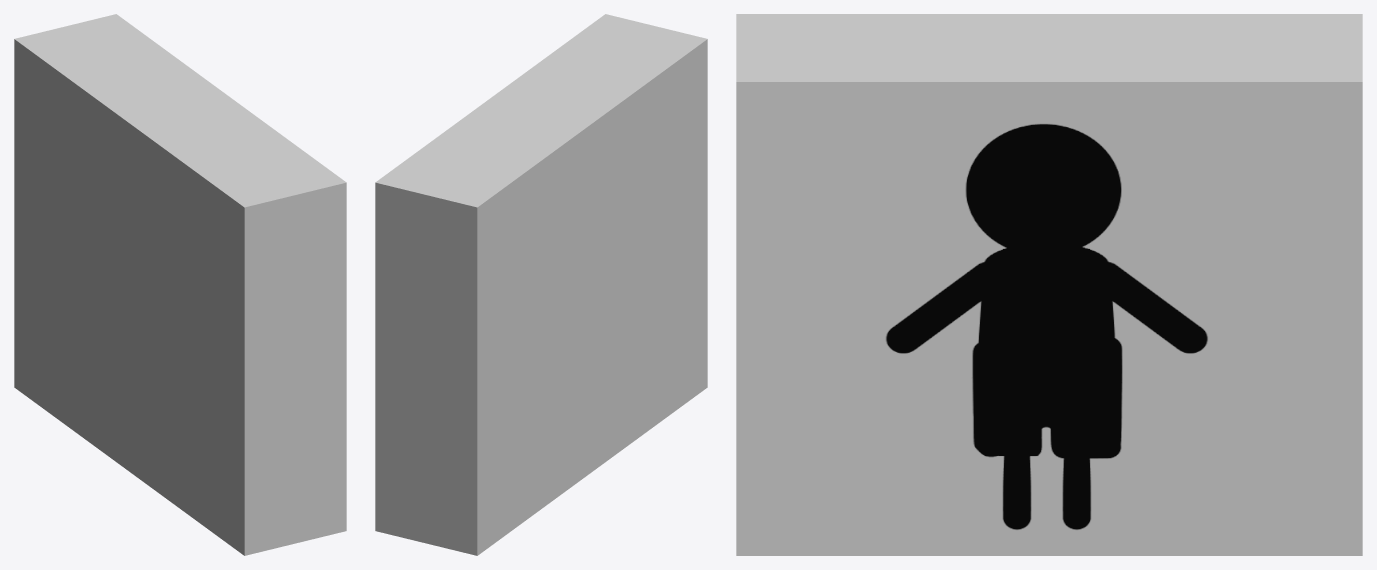
Rendered from manSign.fbx.
The picture shows the model from 3 angles, left to right: view 1: azimuth 30°, elevation 25°; view 2: azimuth 150°, elevation 25°; view 3: azimuth 270°, elevation 25°; orthographic projection. The views are drawn at different scales.
Visible parts, largest first — view 1: manSign; view 2: manSign; view 3: manSign.
Boxes of the visible parts, x1=… form: manSign: x1=14, y1=14, x2=346, y2=555; manSign: x1=375, y1=14, x2=707, y2=555; manSign: x1=736, y1=14, x2=1362, y2=555.
Bounding box in the file's own units: 8.77 × 28.57 × 34.23.
2 materials, 1 textured.
